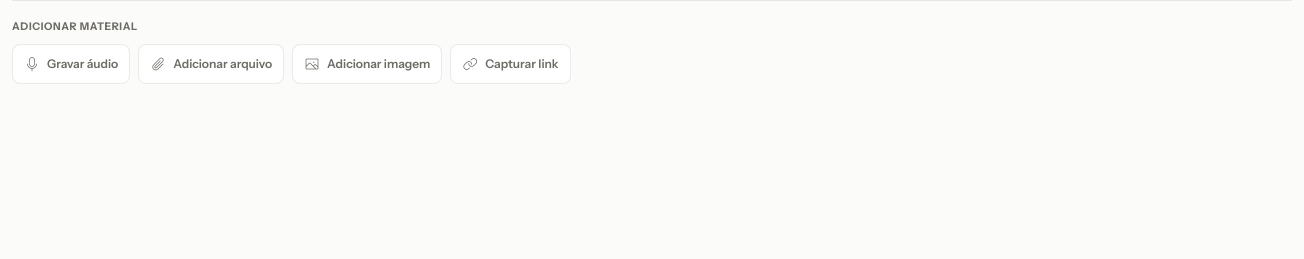
Test case: StudioMaterialComposer › restores focus to link capture after discarding its failed material
Click the button "Capturar link" at [510, 64], box 450,44 -> 570,84
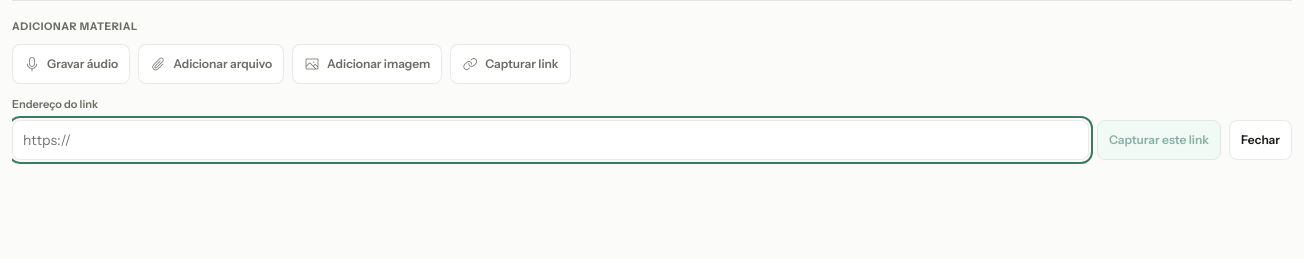
Type "https://example.com" into the field labelled "Endereço do link" at [551, 140], box 12,120 -> 1089,160
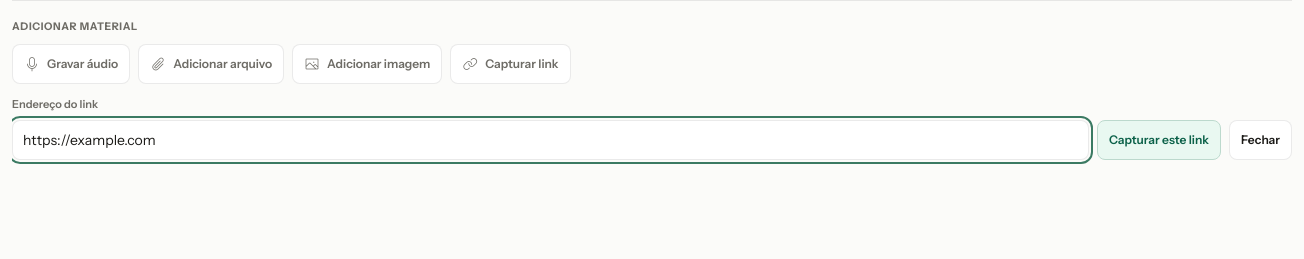
Click the button "Capturar este link" at [1159, 140], box 1097,120 -> 1221,160
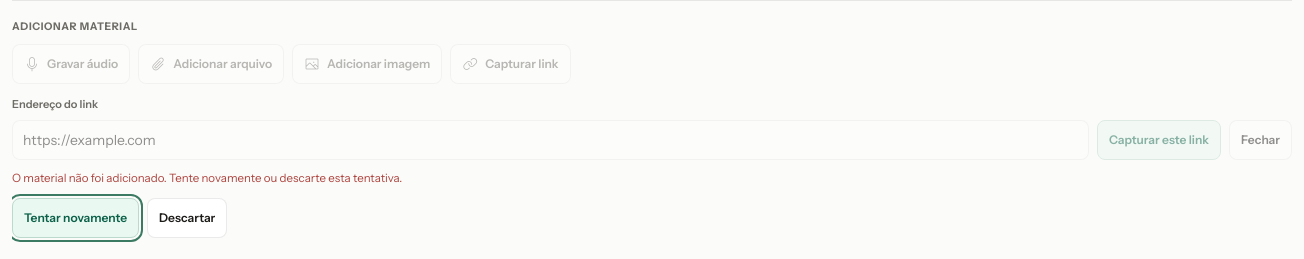
Expected: the message "O material não foi adicionado. Tente novamente ou descarte esta tentativa." is shown, 12,171 -> 402,185
Click the button "Descartar" at [187, 218], box 147,198 -> 227,238
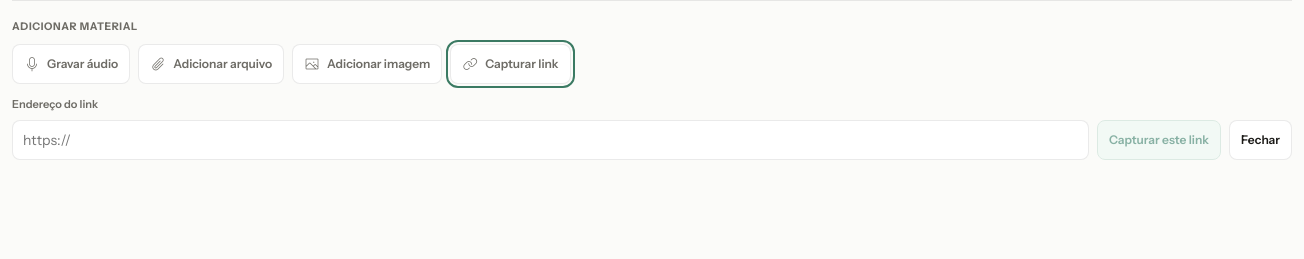
Expected: the message "O material não foi adicionado. Tente novamente ou descarte esta tentativa." is gone
